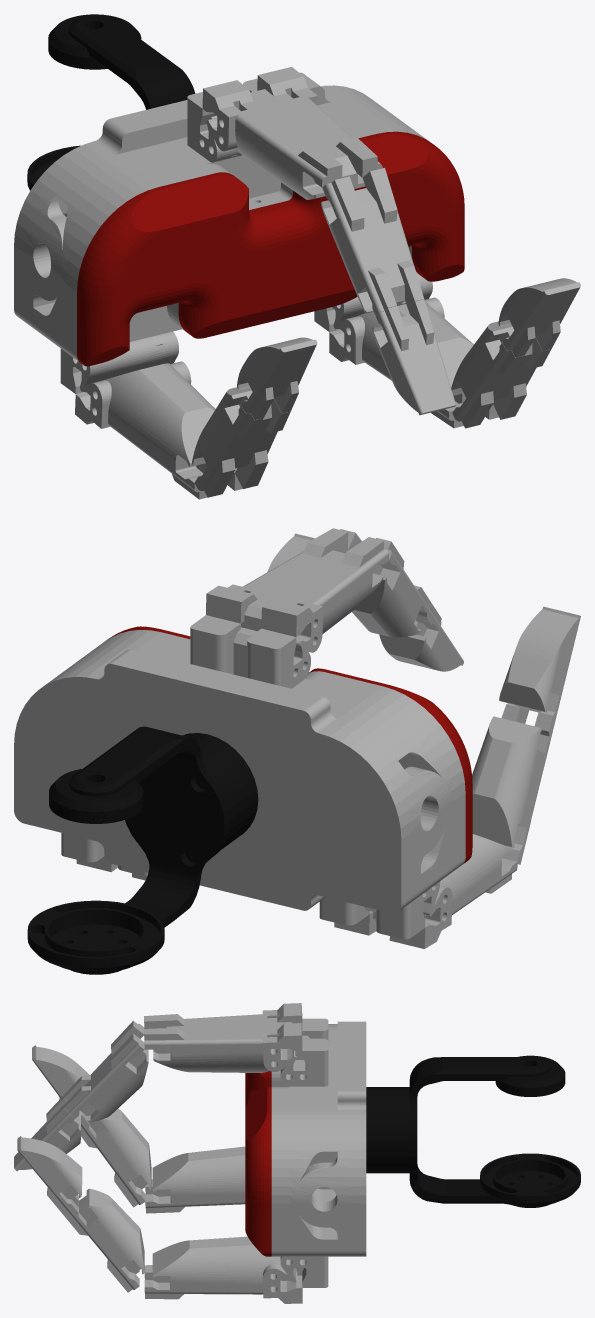
The model's file is HandO2_half_open.obj.
3 renders of one model, top to bottom at view 1: azimuth 30°, elevation 25°; view 2: azimuth 150°, elevation 25°; view 3: azimuth 270°, elevation 25°, orthographic. The views are drawn at different scales.
Visible parts, largest first — view 1: Hand_sep_-_palmPadMountingPAD-1.001_Hand_sep_-_palmPadMountingPA, Hand_sep_-_Finger_Distal-3.001, Hand_sep_-_Finger_Proximal-2.001, Hand_sep_-_FingerMountingTopPlate-1.001, Hand_sep_-_Finger_Distal-2.001, Hand_sep_-_Finger_Proximal-3.001, Hand_sep_-_Finger_Distal-1.001, Hand_sep_-_ShaftSupport-1.001_Hand_sep_-_ShaftSupport-1.000, wrist_yaw_right.005, Hand_sep_-_eyeHookMountingPlate-1.001, Hand_sep_-_Finger_Proximal-1.001, Hand_sep_-_2015_12_28_Finger_New_baseOnly-3.001_Hand_sep_-_2015_ (+4 smaller); view 2: Hand_sep_-_ShaftSupport_underplate-1.001_Hand_sep_-_ShaftSupport, wrist_yaw_right.005, Hand_sep_-_Finger_Distal-2.001, Hand_sep_-_Finger_Proximal-2.001, Hand_sep_-_ShaftSupport-1.001_Hand_sep_-_ShaftSupport-1.000, Hand_sep_-_FingerMountingTopPlate-1.001, wrist_yaw_right_flange.005, Hand_sep_-_Finger_Distal-3.001, Hand_sep_-_2015_12_28_Finger_New_baseOnly-1.001_Hand_sep_-_2015_, Hand_sep_-_Finger_Proximal-3.001, Hand_sep_-_eyeHookMountingPlate-1.001, Cylinder.005 (+4 smaller); view 3: Hand_sep_-_Finger_Proximal-2.001, Hand_sep_-_Finger_Proximal-1.001, Hand_sep_-_ShaftSupport-1.001_Hand_sep_-_ShaftSupport-1.000, wrist_yaw_right.005, Hand_sep_-_Finger_Distal-1.001, Hand_sep_-_FingerMountingTopPlate-1.001, Hand_sep_-_Finger_Distal-3.001, Hand_sep_-_Finger_Distal-2.001, Hand_sep_-_Finger_Proximal-3.001, Hand_sep_-_palmPadMountingPAD-1.001_Hand_sep_-_palmPadMountingPA, wrist_yaw_right_flange.005, Cylinder.005 (+4 smaller).
Boxes of the visible parts, box(x1,y1,x2,y2) form: Hand_sep_-_palmPadMountingPAD-1.001_Hand_sep_-_palmPadMountingPA: box(77, 131, 464, 366); Hand_sep_-_Finger_Distal-3.001: box(320, 168, 456, 415); Hand_sep_-_Finger_Proximal-2.001: box(202, 67, 382, 199); Hand_sep_-_FingerMountingTopPlate-1.001: box(33, 99, 419, 352); Hand_sep_-_Finger_Distal-2.001: box(192, 337, 317, 497); Hand_sep_-_Finger_Proximal-3.001: box(75, 361, 242, 499); Hand_sep_-_Finger_Distal-1.001: box(451, 278, 580, 428); Hand_sep_-_ShaftSupport-1.001_Hand_sep_-_ShaftSupport-1.000: box(18, 76, 387, 328); wrist_yaw_right.005: box(48, 14, 195, 109); Hand_sep_-_eyeHookMountingPlate-1.001: box(65, 123, 430, 361); Hand_sep_-_Finger_Proximal-1.001: box(329, 297, 498, 428); Hand_sep_-_2015_12_28_Finger_New_baseOnly-3.001_Hand_sep_-_2015_: box(60, 331, 178, 393); Hand_sep_-_ShaftSupport_underplate-1.001_Hand_sep_-_ShaftSupport: box(14, 660, 405, 913); wrist_yaw_right.005: box(49, 726, 229, 974); Hand_sep_-_Finger_Distal-2.001: box(472, 606, 580, 864); Hand_sep_-_Finger_Proximal-2.001: box(206, 528, 388, 652); Hand_sep_-_ShaftSupport-1.001_Hand_sep_-_ShaftSupport-1.000: box(46, 649, 450, 907); Hand_sep_-_FingerMountingTopPlate-1.001: box(61, 638, 453, 896); wrist_yaw_right_flange.005: box(27, 900, 164, 972); Hand_sep_-_Finger_Distal-3.001: box(340, 529, 463, 671); Hand_sep_-_2015_12_28_Finger_New_baseOnly-1.001_Hand_sep_-_2015_: box(190, 615, 310, 688); Hand_sep_-_Finger_Proximal-3.001: box(334, 834, 517, 948); Hand_sep_-_eyeHookMountingPlate-1.001: box(95, 630, 465, 872); Cylinder.005: box(182, 733, 258, 858); Hand_sep_-_Finger_Proximal-2.001: box(144, 1003, 302, 1072); Hand_sep_-_Finger_Proximal-1.001: box(144, 1236, 302, 1303); Hand_sep_-_ShaftSupport-1.001_Hand_sep_-_ShaftSupport-1.000: box(293, 1021, 359, 1256); wrist_yaw_right.005: box(409, 1055, 565, 1207); Hand_sep_-_Finger_Distal-1.001: box(17, 1136, 144, 1292); Hand_sep_-_FingerMountingTopPlate-1.001: box(289, 1024, 337, 1256); Hand_sep_-_Finger_Distal-3.001: box(14, 1020, 148, 1171); Hand_sep_-_Finger_Distal-2.001: box(32, 1045, 151, 1207); Hand_sep_-_Finger_Proximal-3.001: box(145, 1146, 245, 1213); Hand_sep_-_palmPadMountingPAD-1.001_Hand_sep_-_palmPadMountingPA: box(245, 1071, 271, 1256); wrist_yaw_right_flange.005: box(480, 1153, 580, 1206); Cylinder.005: box(366, 1087, 409, 1173).
Bounding box in the file's own units: 0.15 × 0.1163 × 0.2582.
